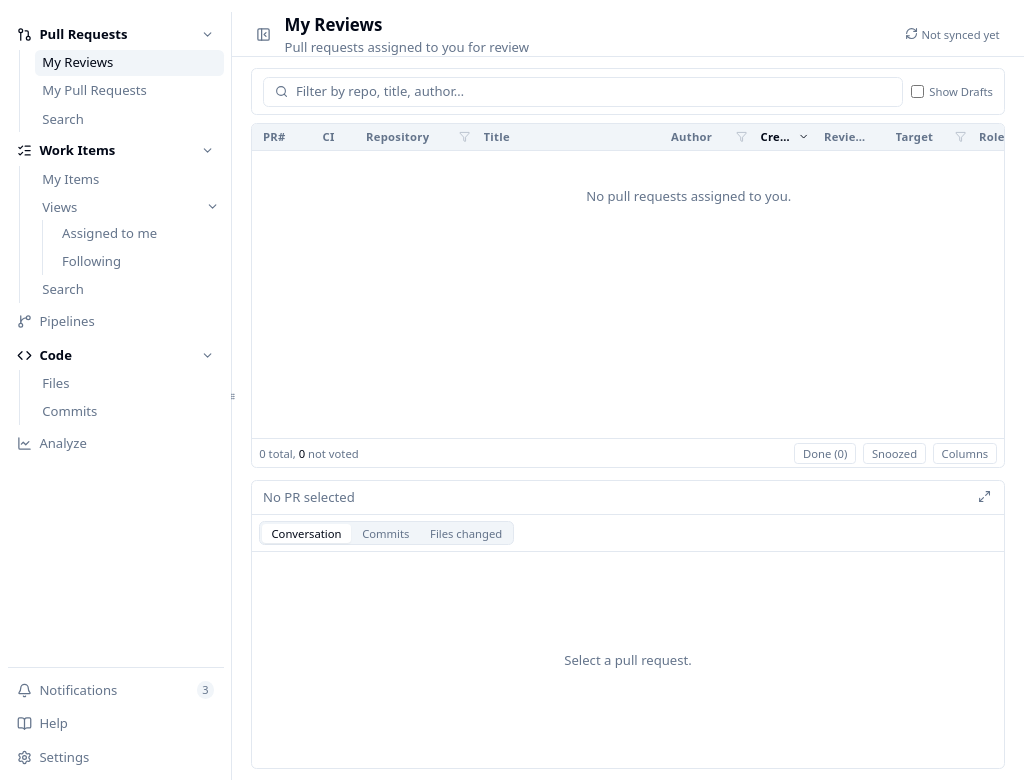
Test case: App — Notifications › shows the unread badge in the sidebar and opens the view from the nav
Expected: the heading "My Reviews" is shown, x1=284 y1=12 x2=382 y2=36
What coordinates should you click on to do the following:
click the button with aria-label "Notifications, 3"
I would click on:
 (116, 690)
Its box is x1=8 y1=675 x2=224 y2=705.
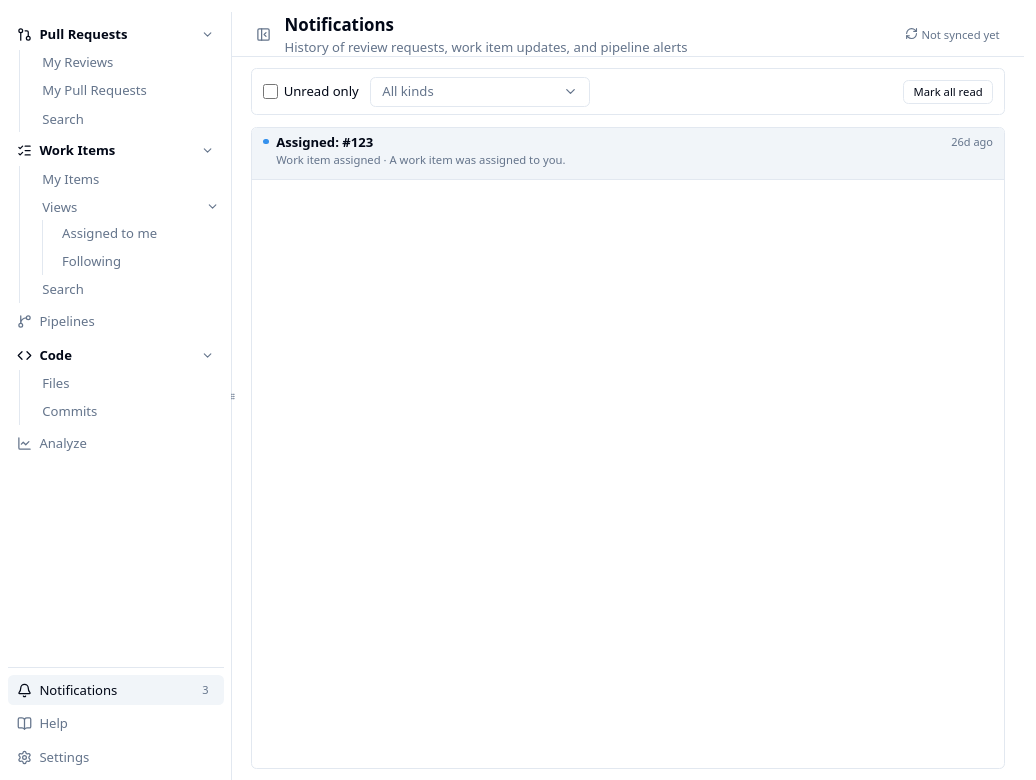
Now the heading "Notifications" is shown, box x1=284 y1=12 x2=394 y2=36
Now the table named "Notifications" is shown, box x1=252 y1=128 x2=1004 y2=180
